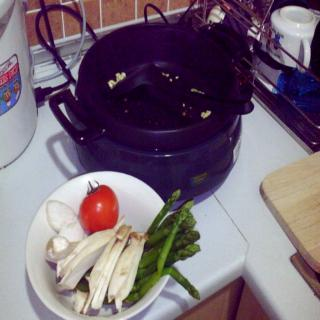Tomato: (78, 179, 120, 234)
